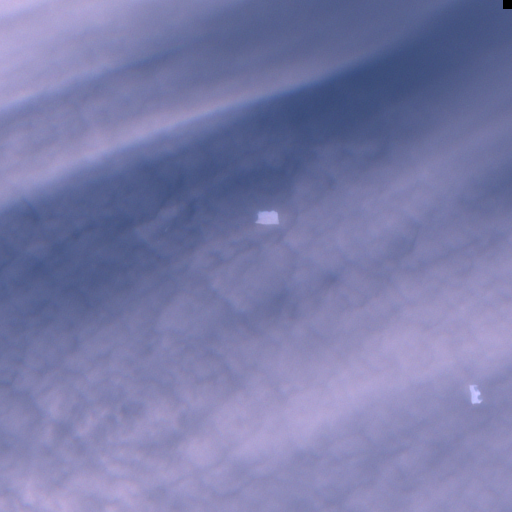Iceberg: (256, 211, 278, 224), (469, 384, 482, 403)
